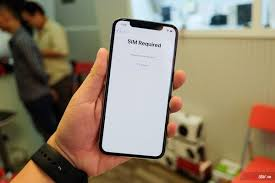iphone: (97, 12, 177, 159)
iphone10: (97, 13, 177, 160)
